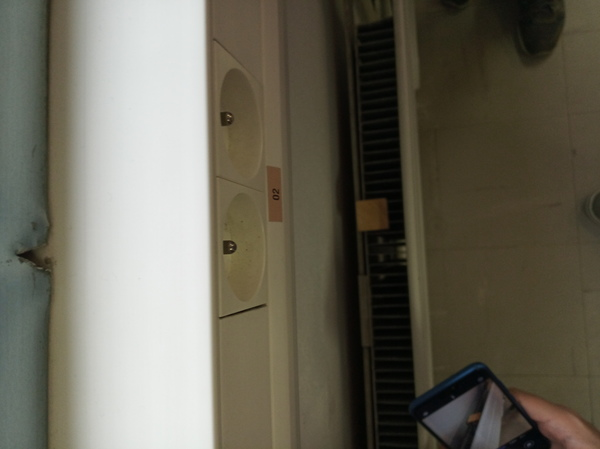violet: (356, 201, 388, 231)
